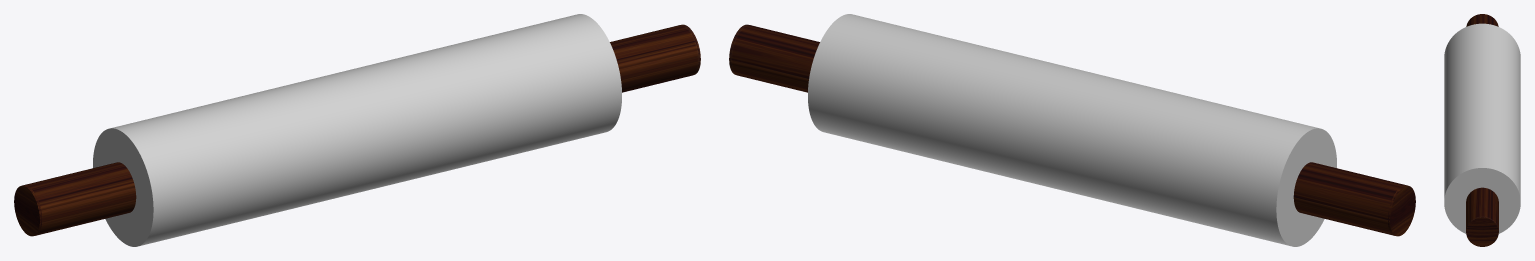
File: rollingpin.fbx
3 renders of one model, left to right at view 1: azimuth 30°, elevation 25°; view 2: azimuth 150°, elevation 25°; view 3: azimuth 270°, elevation 25°, orthographic. The views are drawn at different scales.
Visible parts, largest first — view 1: Cylinder, Cylinder.001; view 2: Cylinder, Cylinder.001; view 3: Cylinder, Cylinder.001.
Part boxes in pixels (x1,y1,x2,y2): Cylinder: (93, 14, 621, 246); Cylinder.001: (14, 24, 700, 236); Cylinder: (808, 14, 1336, 246); Cylinder.001: (729, 24, 1415, 236); Cylinder: (1444, 23, 1520, 233); Cylinder.001: (1466, 14, 1498, 246).
Bounding box in the file's own units: 440 × 70 × 70.
